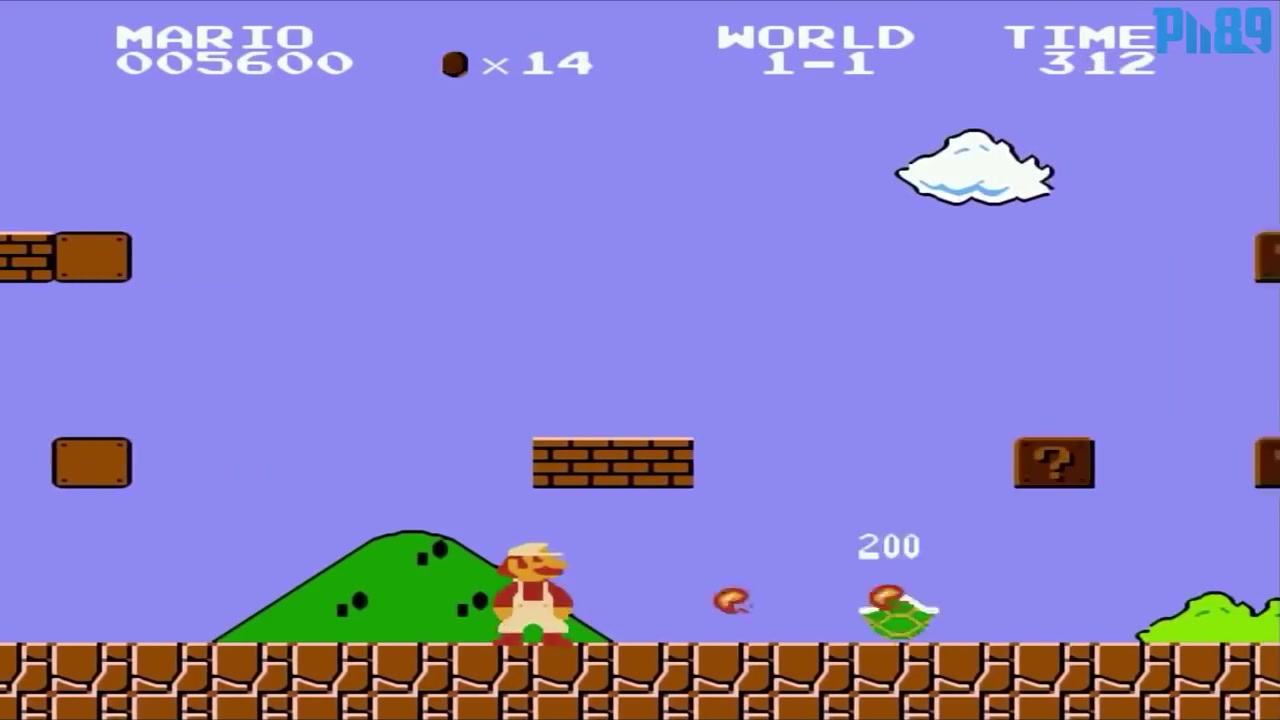mario: (481, 538, 586, 646)
